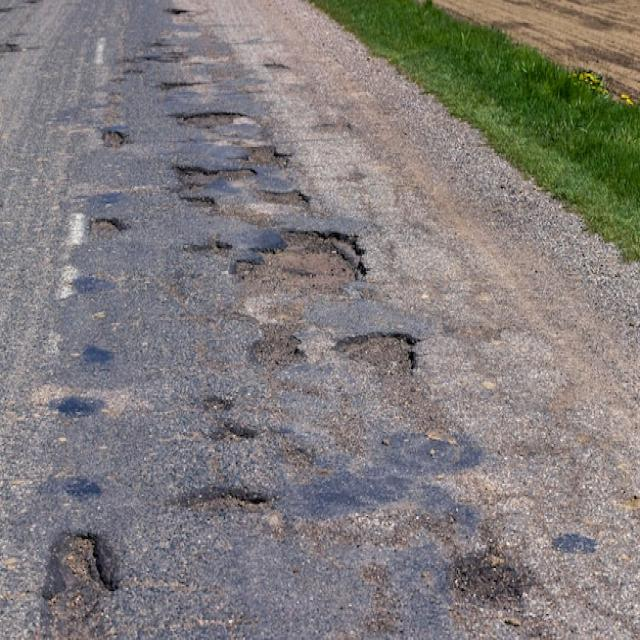Pothole: (174, 141, 367, 364), (33, 536, 113, 640), (188, 496, 285, 542), (451, 550, 519, 602), (335, 335, 412, 371), (200, 397, 256, 444), (350, 343, 407, 383), (296, 254, 358, 285), (461, 586, 520, 608), (259, 338, 298, 364), (191, 499, 242, 518), (178, 109, 234, 122), (178, 167, 213, 185), (261, 193, 302, 204), (96, 220, 115, 237), (315, 283, 344, 294), (256, 149, 279, 161), (200, 190, 214, 208), (105, 129, 123, 142), (80, 560, 92, 577), (204, 239, 218, 253)
